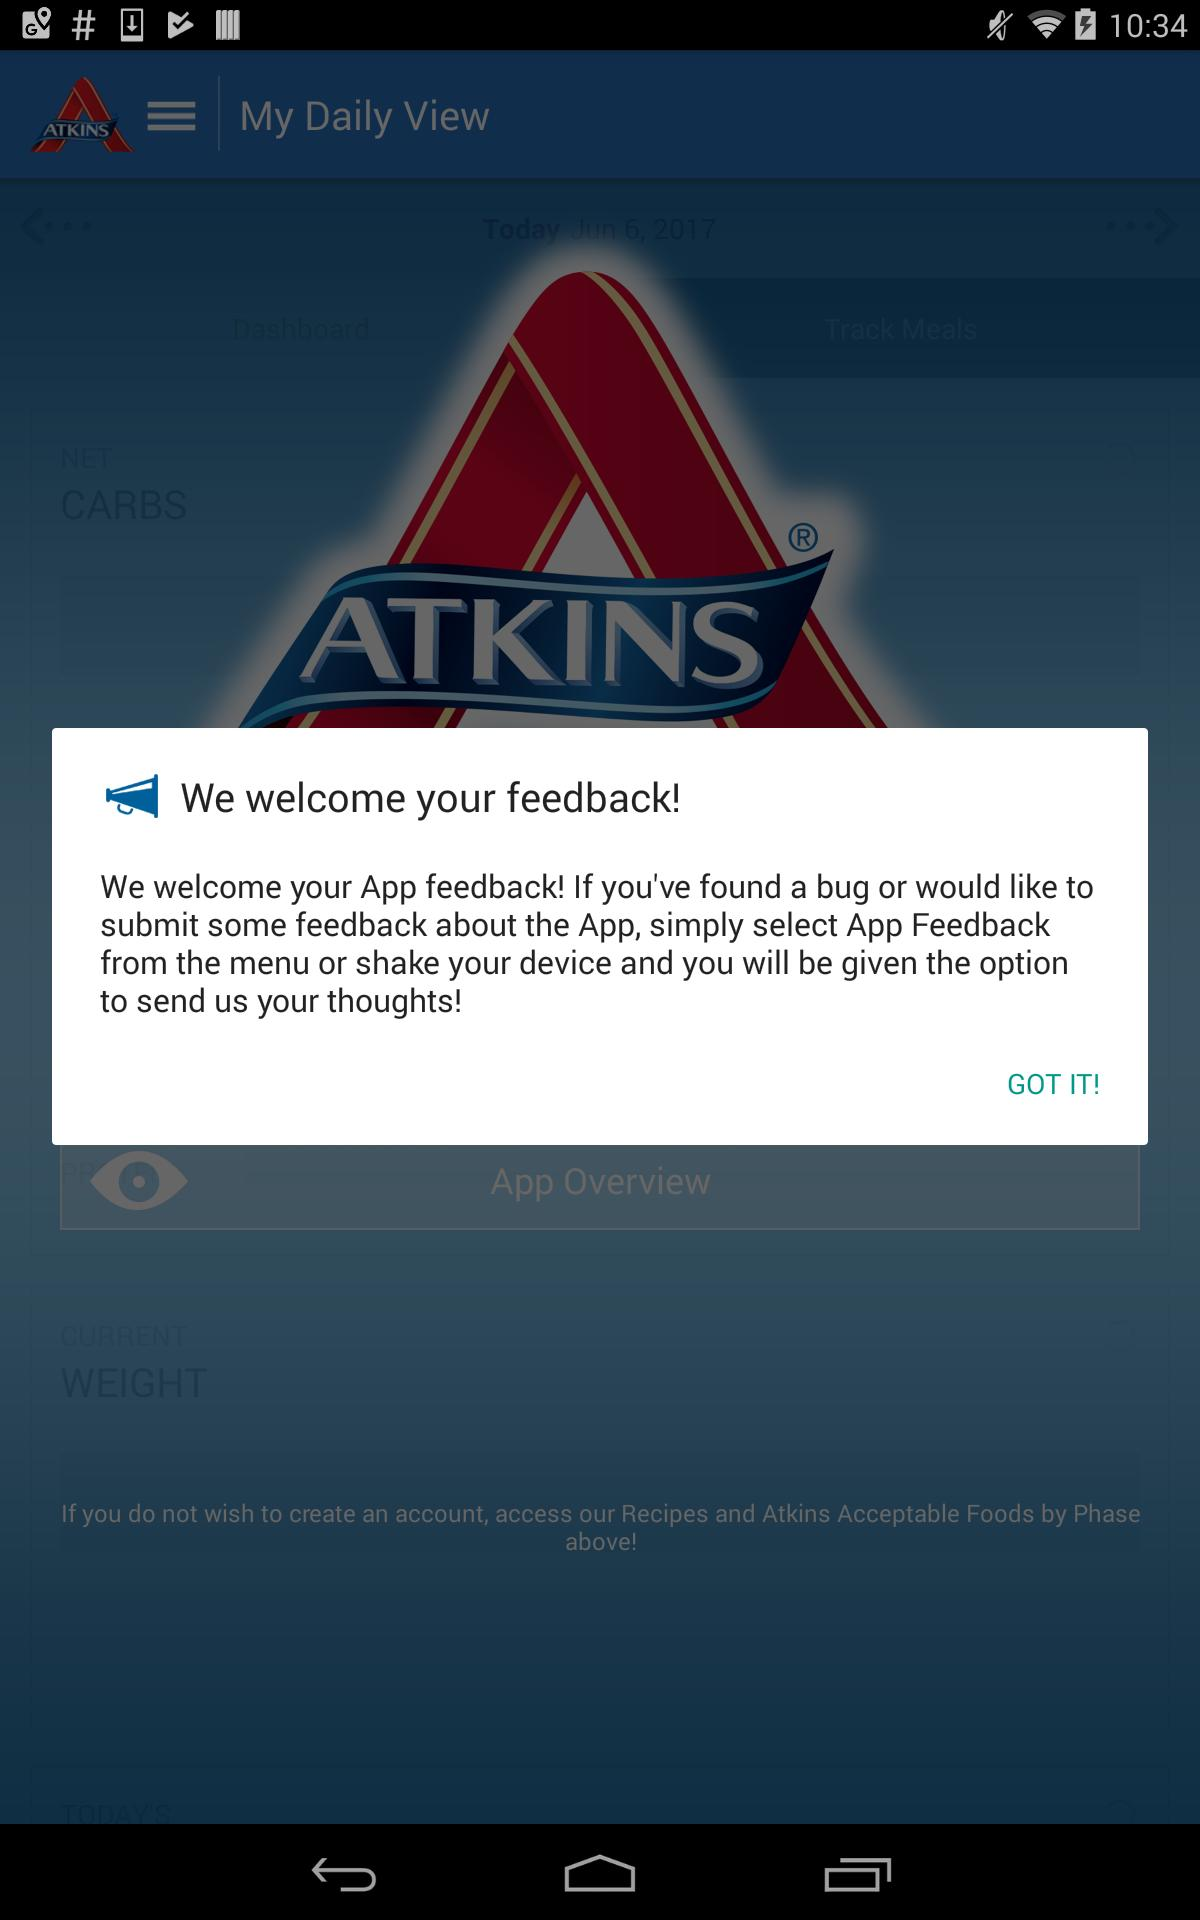android.widget.Button: (982, 1028, 1124, 1138)
android.widget.FrameLayout: (19, 697, 1181, 1176), (53, 728, 1147, 1145), (53, 828, 1147, 1022)
android.widget.ImageView: (100, 764, 165, 828)
android.widget.LinearLayout: (53, 728, 1147, 1145), (53, 828, 1147, 1022), (53, 1022, 1147, 1145), (53, 728, 1147, 828)
android.widget.TextView: (53, 828, 1147, 1022), (180, 769, 1100, 822)
